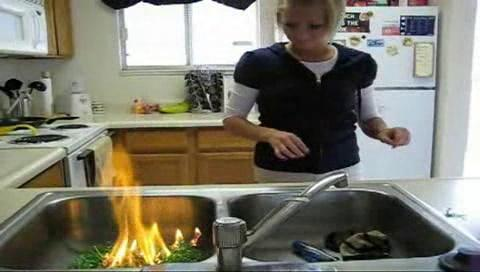fire: (104, 148, 169, 258)
